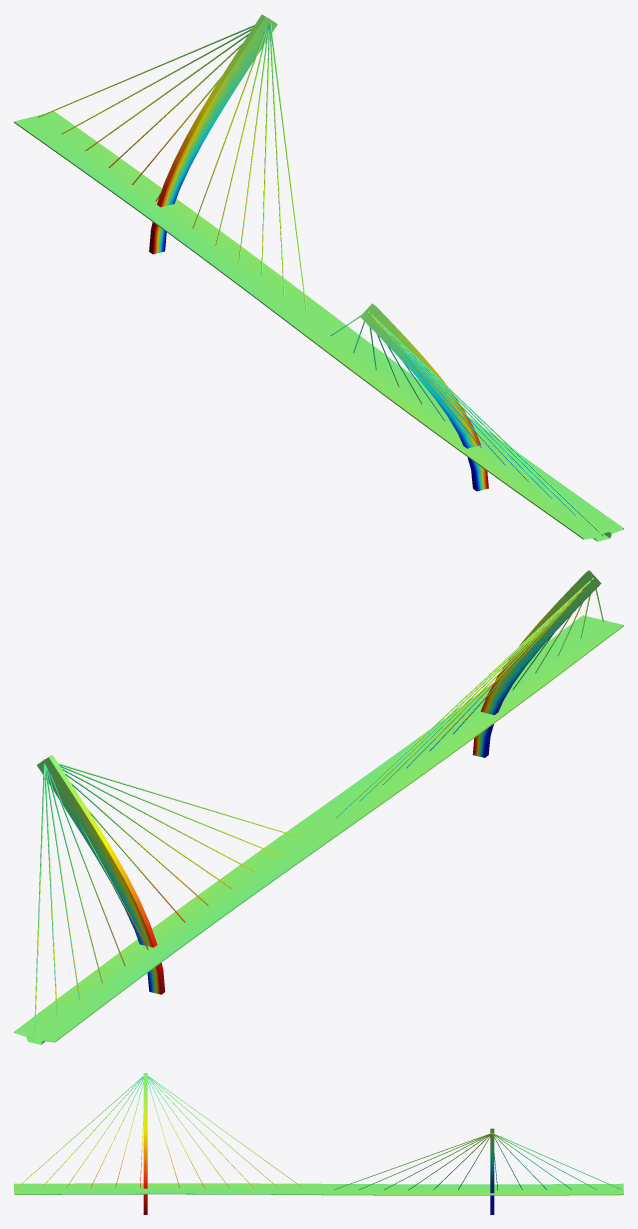
The model's file is Mode2.glb.
The picture shows the model from 3 angles, top to bottom: view 1: azimuth 30°, elevation 25°; view 2: azimuth 150°, elevation 25°; view 3: azimuth 270°, elevation 25°; orthographic projection. The views are drawn at different scales.
Visible parts, largest first — view 1: beam1_hull_lc102_mode2_ampFactor100; view 2: beam1_hull_lc102_mode2_ampFactor100; view 3: beam1_hull_lc102_mode2_ampFactor100.
Part boxes in pixels (x1=…): beam1_hull_lc102_mode2_ampFactor100: x1=14, y1=14, x2=623, y2=541; beam1_hull_lc102_mode2_ampFactor100: x1=14, y1=570, x2=623, y2=1044; beam1_hull_lc102_mode2_ampFactor100: x1=14, y1=1073, x2=623, y2=1214.
Size of the model in its own units: 29.18 by 24.61 by 121.
1 material, 1 textured.
